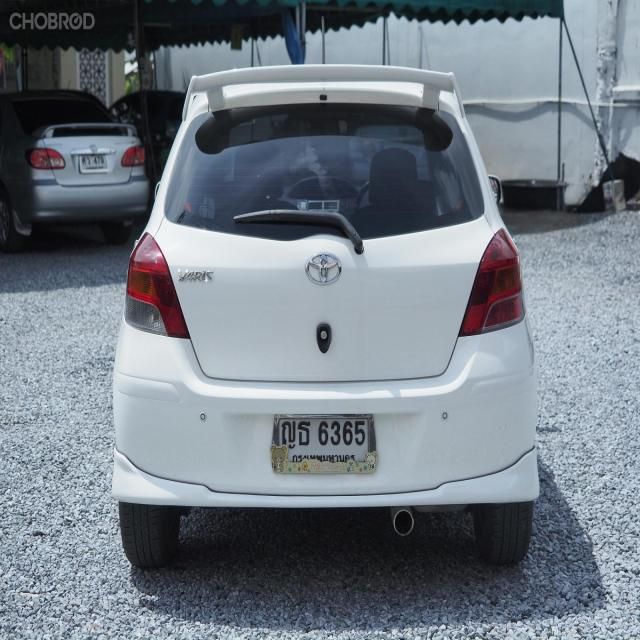license_plate: (271, 409, 378, 475), (78, 152, 111, 174)
